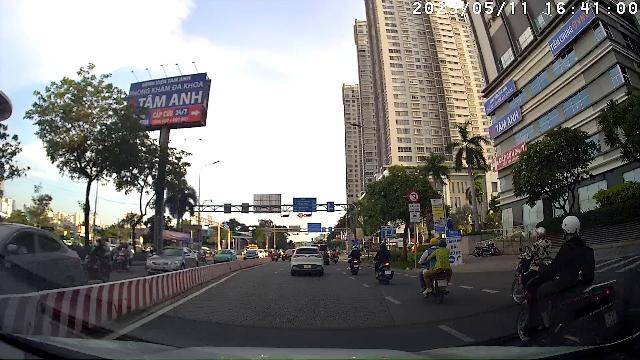103c-cam-oto-re-trai: (408, 190, 420, 202)
